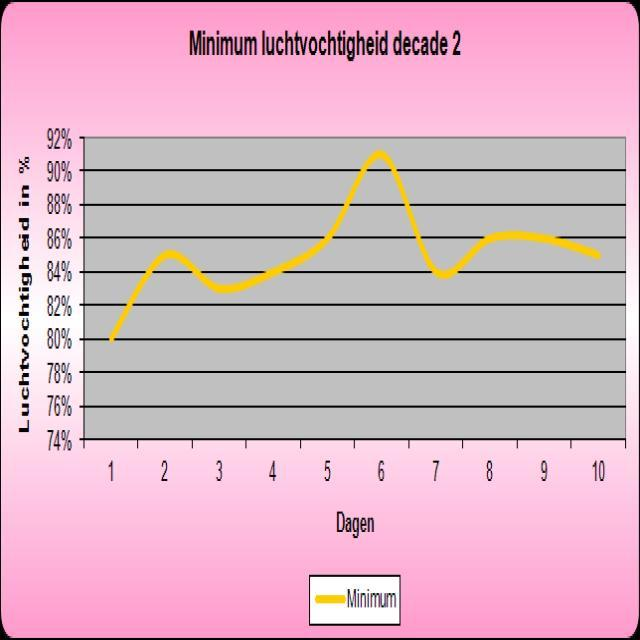axis: (78, 433, 633, 451), (78, 129, 89, 456)
line: (104, 146, 604, 347)
